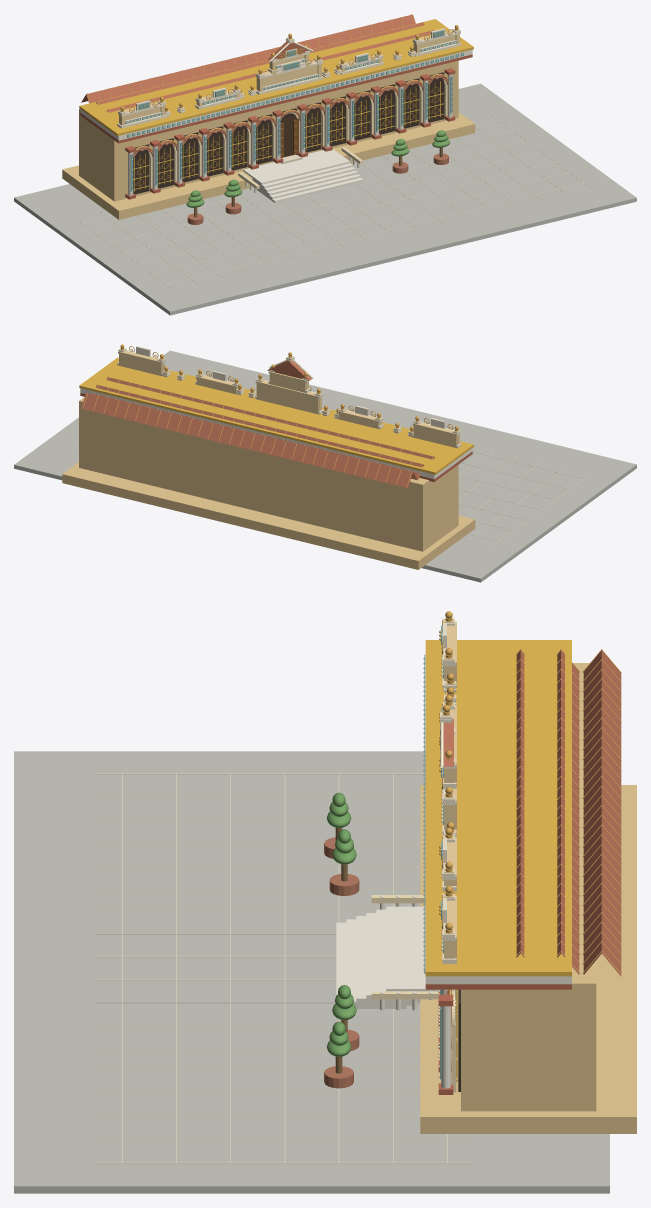
Rendered from chanh-dien-cua-vom.glb.
3 renders of one model, top to bottom at view 1: azimuth 30°, elevation 25°; view 2: azimuth 150°, elevation 25°; view 3: azimuth 270°, elevation 25°, orthographic. The views are drawn at different scales.
Parts seen in each view (by area): view 1: Sân, Viền mái trên, Khối kiến trúc, Nền chính điện, Mái ngói phía sau.002, Bậc thềm.005, Diềm gốm, Viền mái dưới, Mái ngói phía sau.001, Mái ngói phía sau, Cửa vòm.005, Cửa vòm.002 (+18 smaller); view 2: Khối kiến trúc, Sân, Viền mái trên, Nền chính điện, Mái ngói phía sau.002, Mái ngói phía sau.001, Mái ngói phía sau, Diềm gốm, Thân ô mái.004, Thân ô mái, Thân ô mái.001, Thân ô mái.005 (+3 smaller); view 3: Sân, Viền mái trên, Khối kiến trúc, Nền chính điện, Mái ngói phía sau.002, Mái ngói phía sau.001, Bậc thềm.005, Mái ngói phía sau, Diềm gốm, Bậc thềm.002, Bậc thềm.001, Bậc thềm.003 (+4 smaller).
Part boxes in pixels (<box>): Sân: <box>14,83,636,315</box>; Viền mái trên: <box>79,19,473,136</box>; Khối kiến trúc: <box>79,60,458,201</box>; Nền chính điện: <box>62,112,475,219</box>; Mái ngói phía sau.002: <box>81,14,415,103</box>; Bậc thềm.005: <box>243,149,350,184</box>; Diềm gốm: <box>80,49,472,140</box>; Viền mái dưới: <box>80,54,472,143</box>; Mái ngói phía sau.001: <box>96,22,424,104</box>; Mái ngói phía sau: <box>107,30,434,112</box>; Cửa vòm.005: <box>256,114,272,164</box>; Cửa vòm.002: <box>182,132,198,182</box>; Khối kiến trúc: <box>79,397,458,551</box>; Sân: <box>14,350,636,582</box>; Viền mái trên: <box>79,357,473,474</box>; Nền chính điện: <box>62,462,475,569</box>; Mái ngói phía sau.002: <box>81,392,417,488</box>; Mái ngói phía sau.001: <box>94,385,424,479</box>; Mái ngói phía sau: <box>106,377,434,459</box>; Diềm gốm: <box>80,388,472,479</box>; Thân ô mái.004: <box>256,380,318,414</box>; Thân ô mái: <box>413,423,456,447</box>; Thân ô mái.001: <box>119,351,161,375</box>; Thân ô mái.005: <box>269,371,305,392</box>; Sân: <box>14,751,609,1193</box>; Viền mái trên: <box>425,640,571,976</box>; Khối kiến trúc: <box>461,663,596,1111</box>; Nền chính điện: <box>420,785,636,1133</box>; Mái ngói phía sau.002: <box>583,649,621,976</box>; Mái ngói phía sau.001: <box>557,649,579,974</box>; Bậc thềm.005: <box>386,906,439,991</box>; Mái ngói phía sau: <box>516,649,524,957</box>; Diềm gốm: <box>425,976,571,984</box>; Bậc thềm.002: <box>356,916,420,1002</box>; Bậc thềm.001: <box>346,919,412,1005</box>; Bậc thềm.003: <box>366,913,376,998</box>.
Bounding box in the file's own units: 38 × 11.04 × 23.
